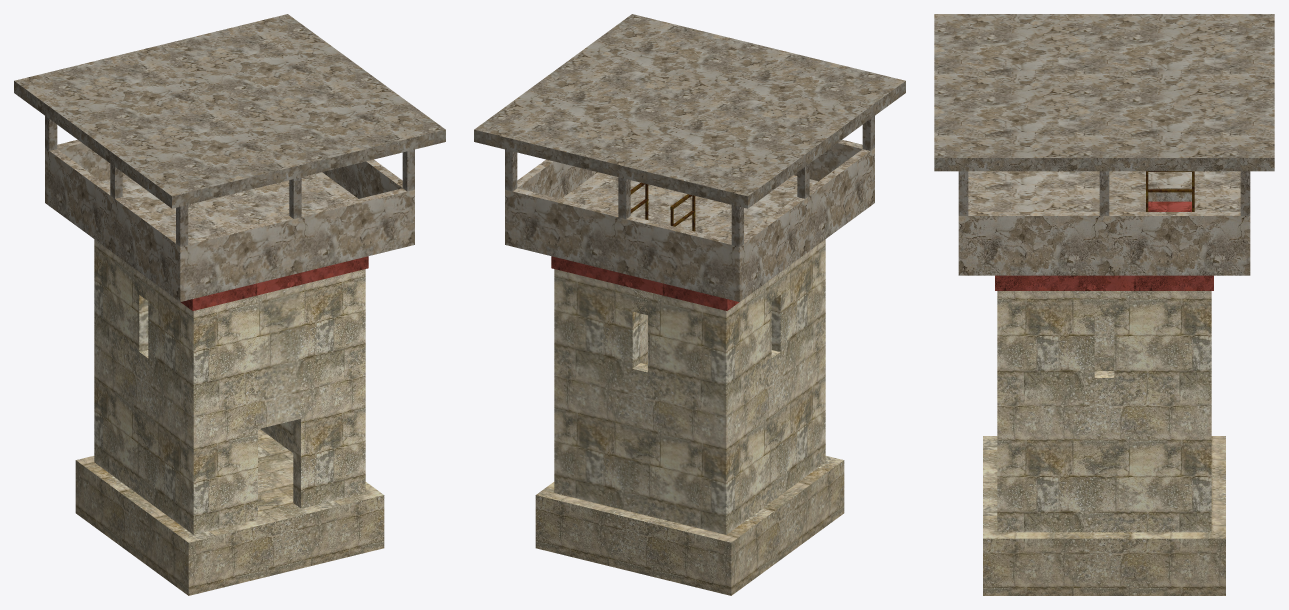
File: bw-post.zfix-v4.lod0.glb
The picture shows the model from 3 angles, left to right: view 1: azimuth 30°, elevation 25°; view 2: azimuth 150°, elevation 25°; view 3: azimuth 270°, elevation 25°; orthographic projection. The views are drawn at different scales.
Parts seen in each view (by area): view 1: bw-post; view 2: bw-post; view 3: bw-post.
Boxes of the visible parts, left/top/right/bottom form: bw-post: left=14, top=14, right=445, bottom=595; bw-post: left=474, top=14, right=905, bottom=595; bw-post: left=934, top=14, right=1274, bottom=595.
Size of the model in its own units: 7 by 10.4 by 7.
3 materials, 3 textured.
